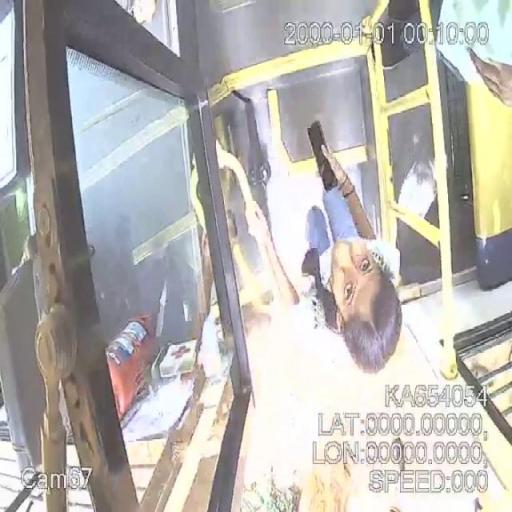persona: (300, 120, 404, 374)
